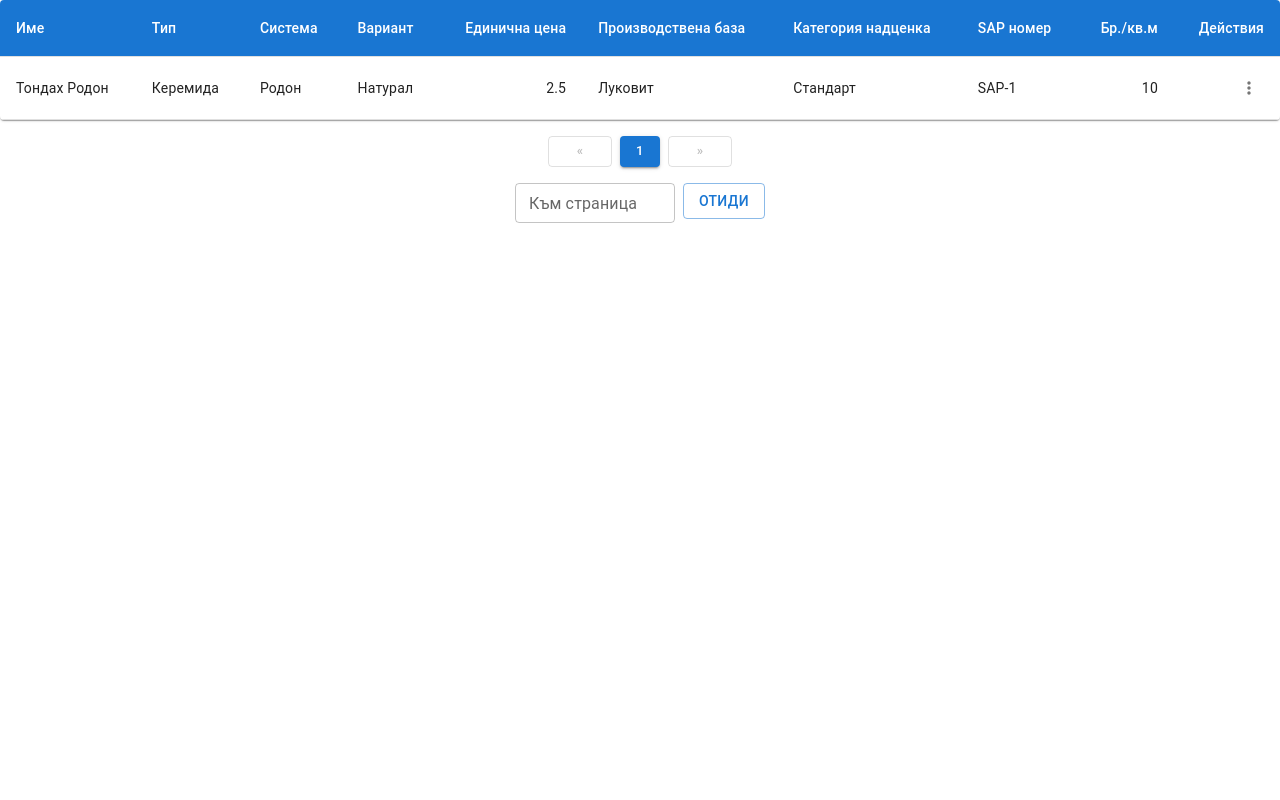
Test: ProductsTable › shows an error when deletion fails
Click the button named "Действия за Тондах Родон" at point(1249, 88), box x1=1234 y1=73 x2=1264 y2=103
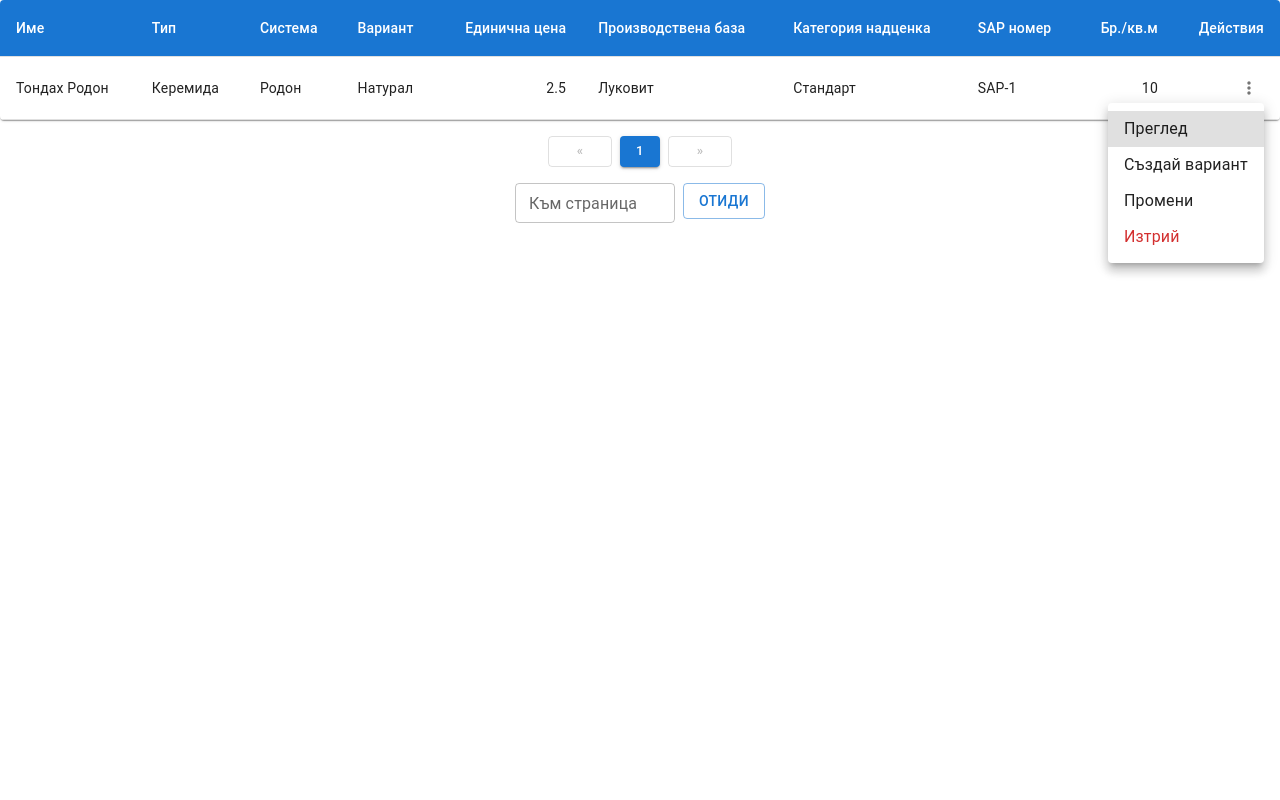
Click the menu item with aria-label "Изтрий Тондах Родон" at point(1152, 236), box x1=1124 y1=227 x2=1180 y2=246
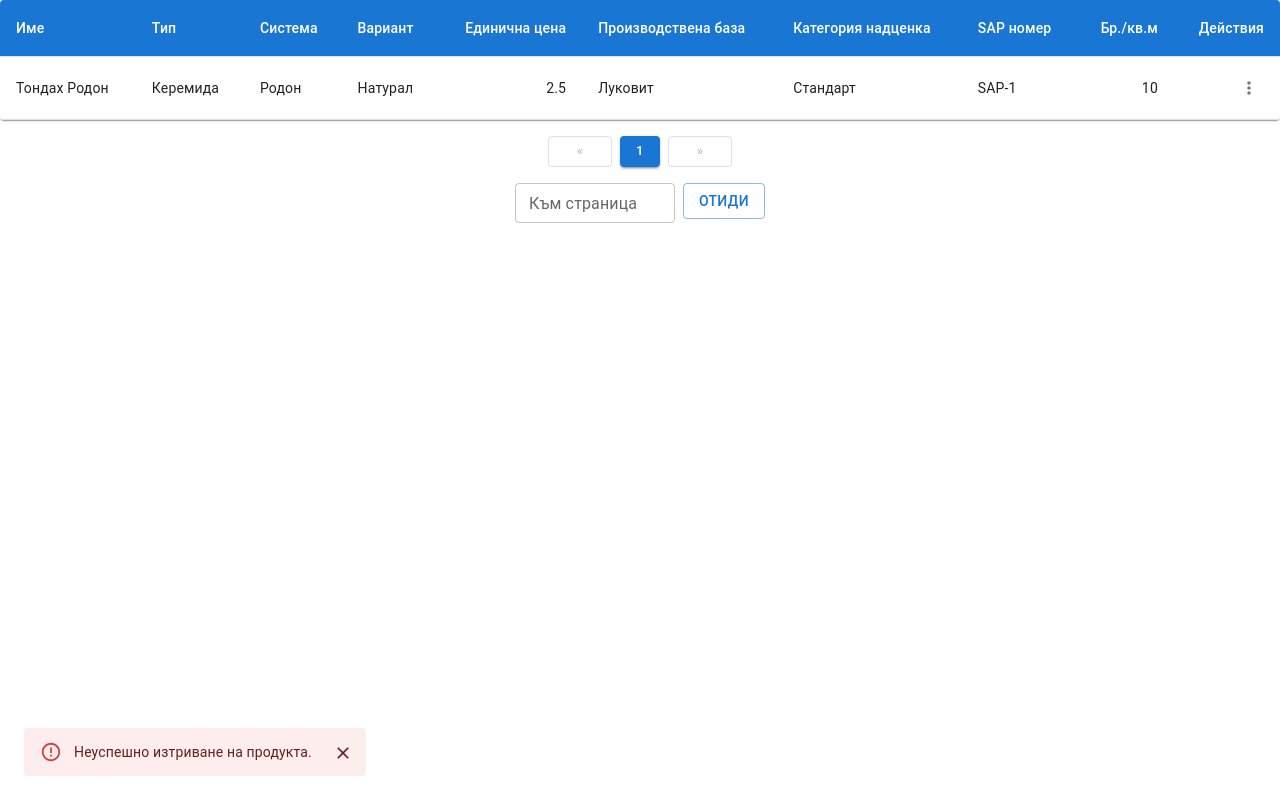
Check: the text "Неуспешно изтриване на продукта." is shown, box x1=74 y1=744 x2=312 y2=760
